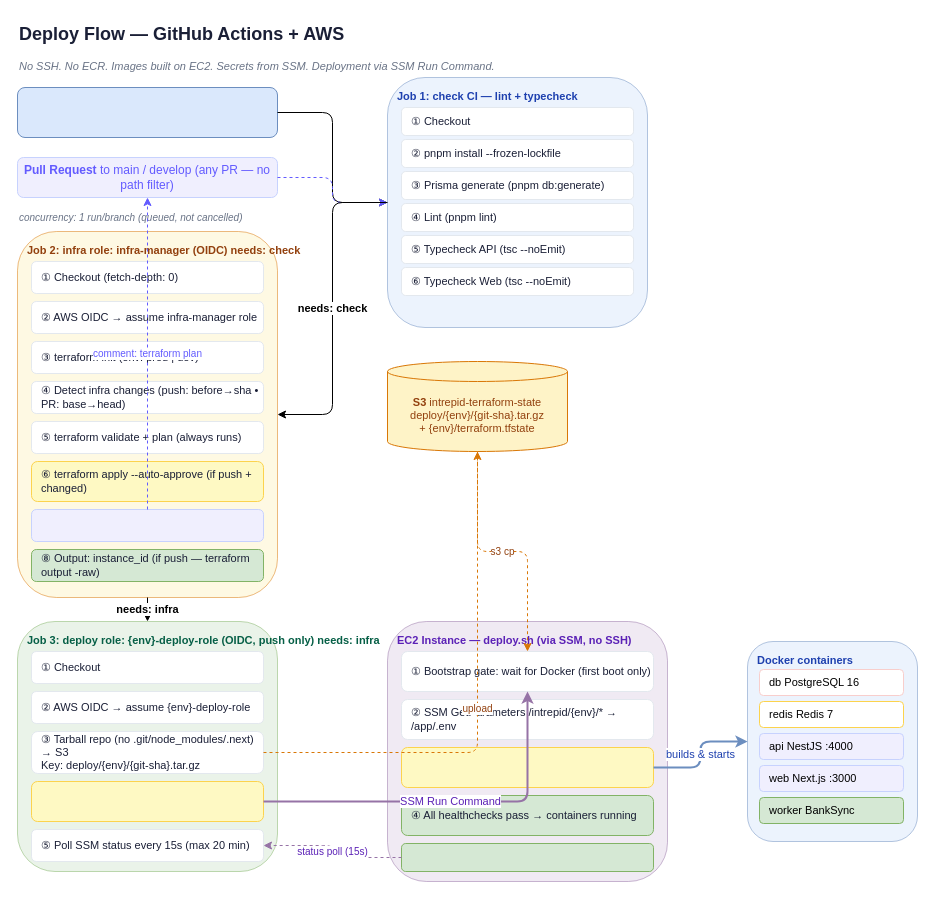
The diagram is 935 pixels wide and 899 high, and some of its shapes have lost their labels. Here are the shapes that lost their labels. From the top down, the box of each, then its label:
(16, 86, 278, 138): Push to main → env: prod Push to develop → env: dev
(30, 508, 264, 542): ⑦ Post plan to PR (upsert comment, PR only)
(400, 746, 654, 788): ③ docker compose up --build -d --wait --wait-timeout 300
(30, 780, 264, 822): ④ SSM RunCommand: s3 cp + run deploy.sh
(400, 842, 654, 872): ⑤ SSM reports success → GitHub Actions ✓
